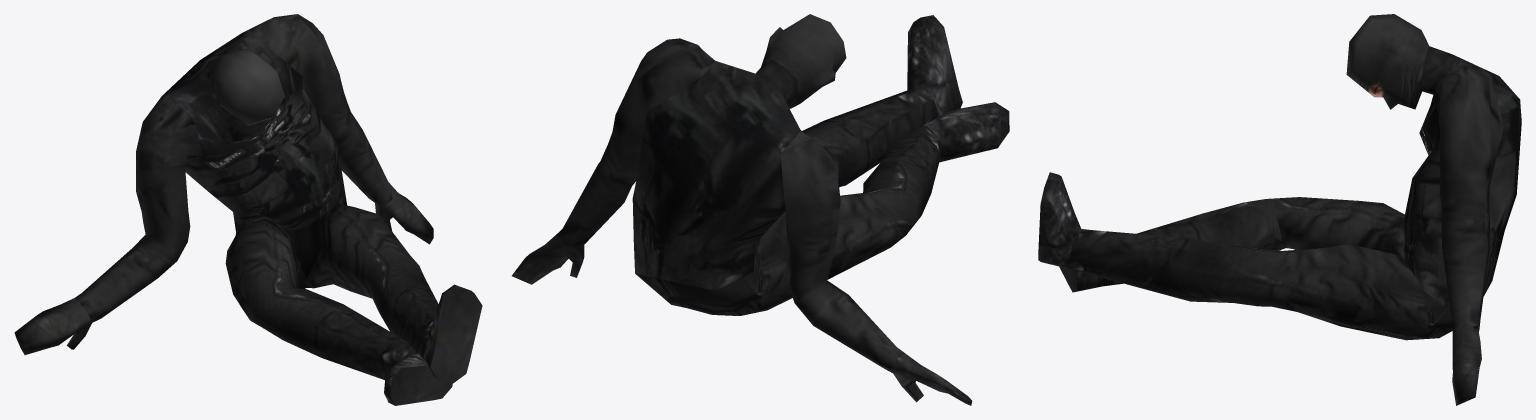
The model's file is character_21_4.fbx.
3 renders of one model, left to right at view 1: azimuth 30°, elevation 25°; view 2: azimuth 150°, elevation 25°; view 3: azimuth 270°, elevation 25°, orthographic. The views are drawn at different scales.
Visible parts, largest first — view 1: Character_21_Police; view 2: Character_21_Police; view 3: Character_21_Police.
Boxes of the visible parts, x1,y1,x2,y2 form: Character_21_Police: (14, 14, 482, 405); Character_21_Police: (512, 14, 1009, 405); Character_21_Police: (1038, 14, 1521, 405).
Bounding box in the file's own units: 305 × 204 × 299.
